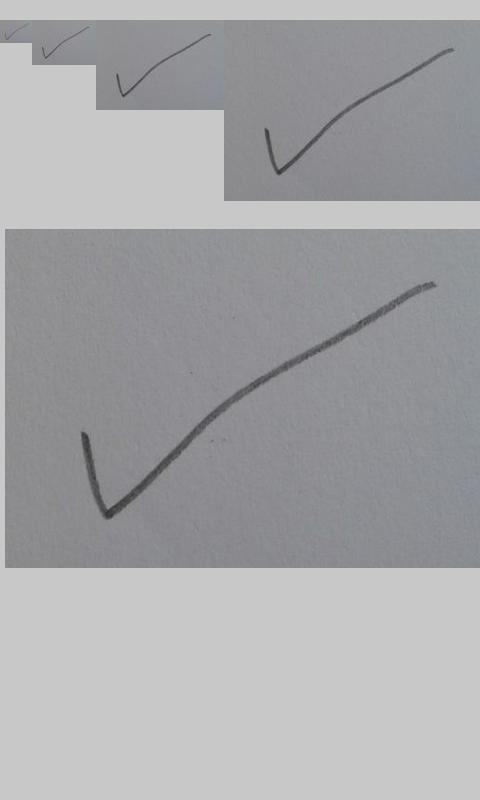check_box: (78, 281, 437, 520), (264, 48, 453, 176), (116, 34, 211, 98), (42, 26, 89, 59), (4, 24, 28, 40)
